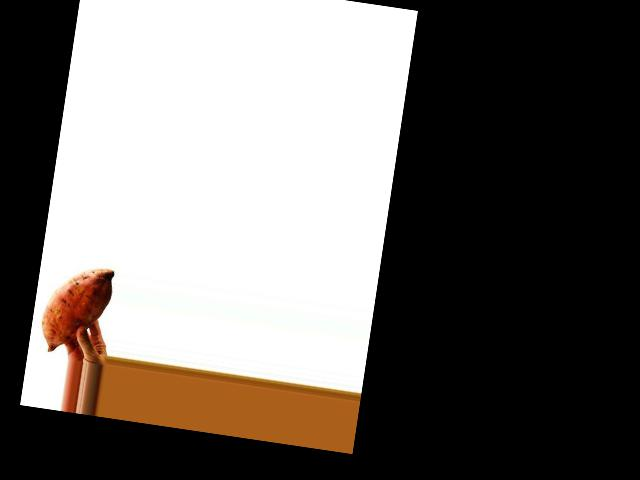sweet_potato: (32, 257, 118, 357)
